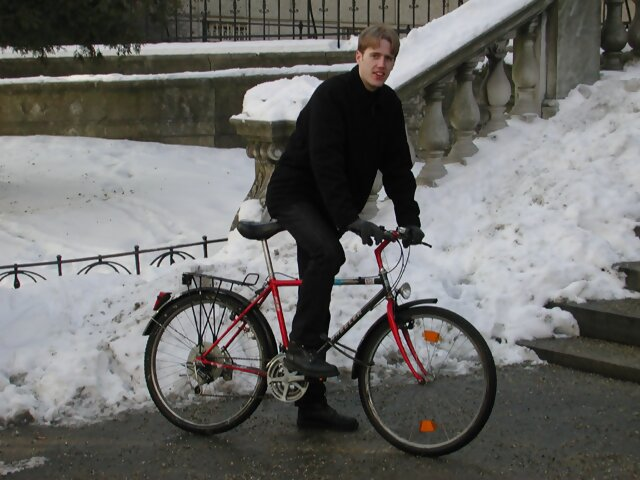person: (261, 20, 429, 447)
